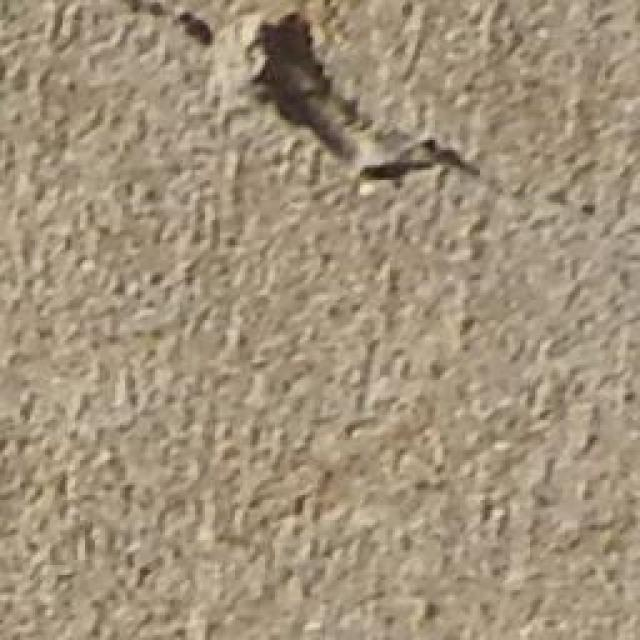concrete-crack: (246, 0, 489, 191)
